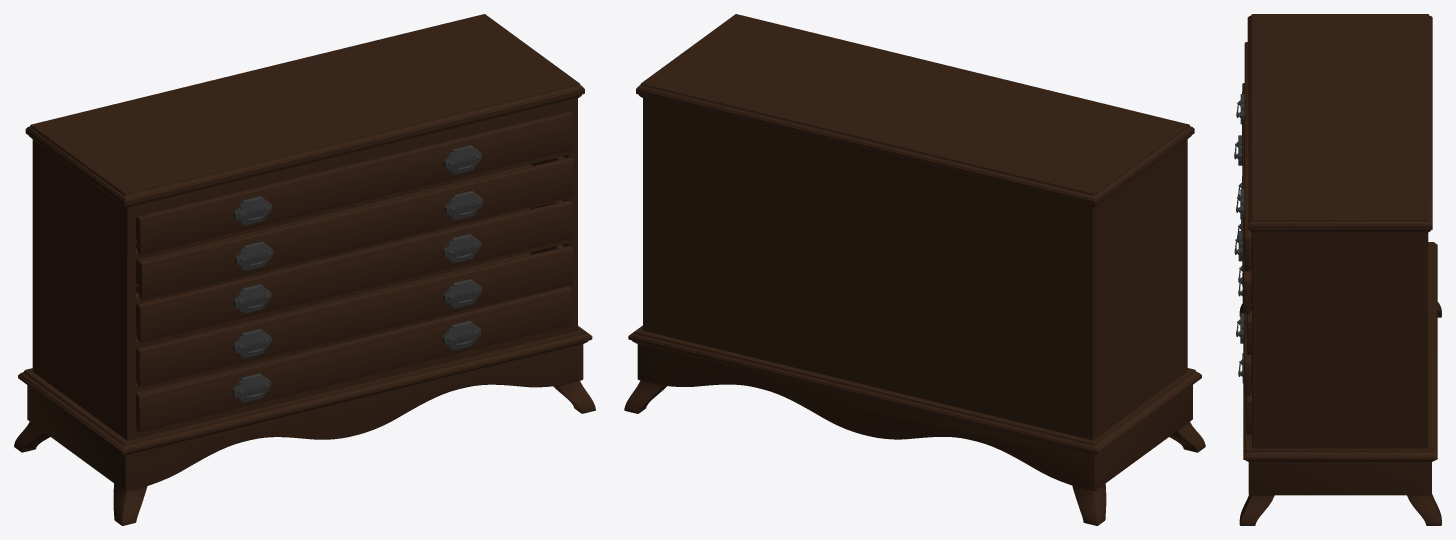
File: drawer_fancy.glb
The picture shows the model from 3 angles, left to right: view 1: azimuth 30°, elevation 25°; view 2: azimuth 150°, elevation 25°; view 3: azimuth 270°, elevation 25°; orthographic projection. The views are drawn at different scales.
Visible parts, largest first — view 1: Drawers_Fancy; view 2: Drawers_Fancy; view 3: Drawers_Fancy.
Boxes of the visible parts, <box> form: Drawers_Fancy: <box>14,14,595,525</box>; Drawers_Fancy: <box>624,14,1205,525</box>; Drawers_Fancy: <box>1234,14,1441,525</box>.
Bounding box in the file's own units: 1.5 × 0.9807 × 0.6115.
